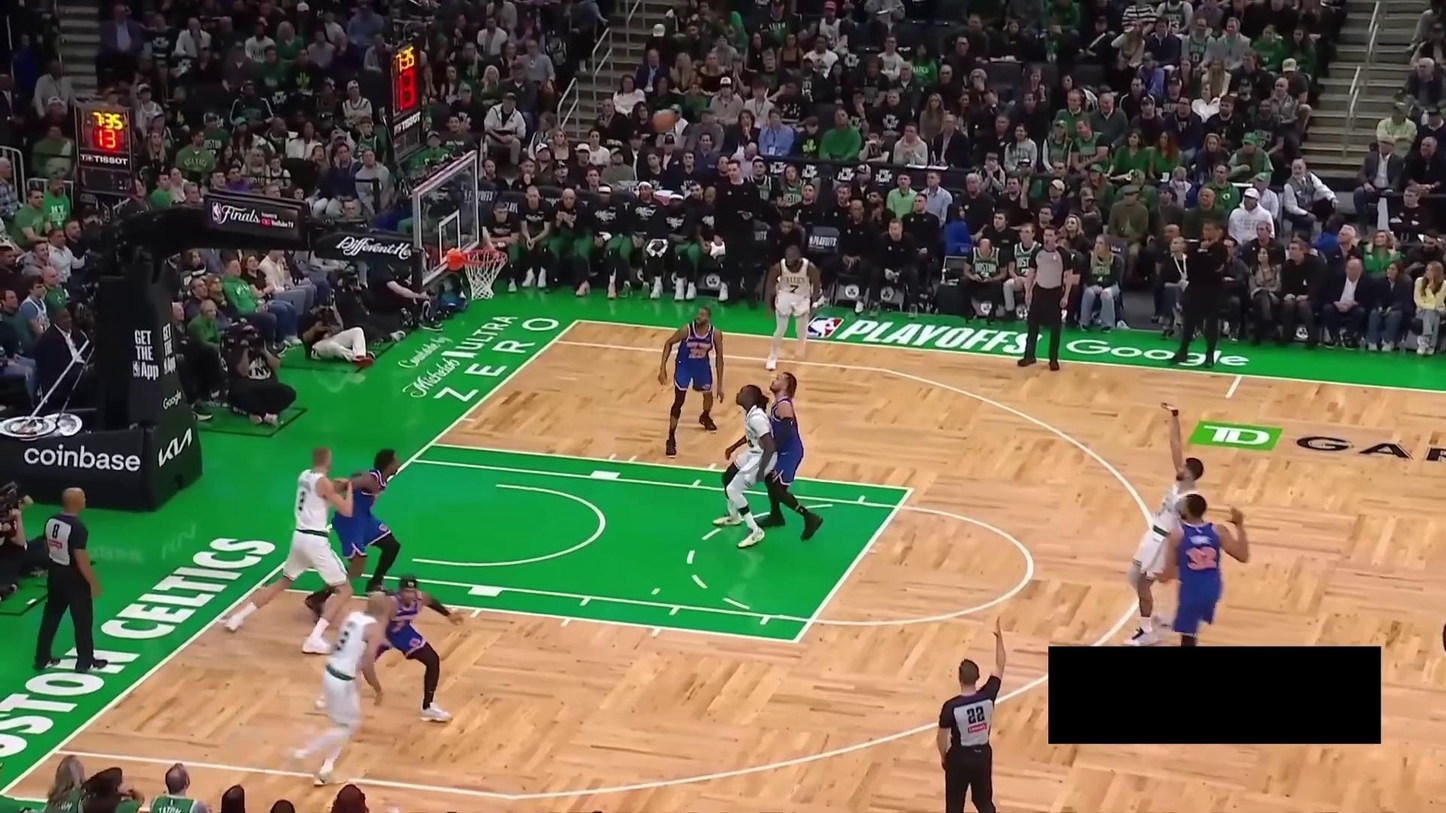ball: (652, 109, 676, 132)
number: (1185, 545, 1217, 570), (337, 629, 350, 652), (688, 346, 709, 360), (297, 490, 307, 512), (788, 282, 800, 294), (746, 437, 756, 450)
player: (221, 444, 358, 656), (310, 573, 468, 721), (1124, 401, 1207, 647), (288, 590, 387, 787), (301, 446, 403, 621), (1157, 494, 1250, 647), (755, 370, 825, 543), (711, 383, 776, 549), (657, 305, 725, 458), (764, 242, 822, 372)
referee: (32, 486, 109, 673), (936, 614, 1008, 813), (1017, 224, 1075, 372)
rim: (462, 248, 508, 265)
